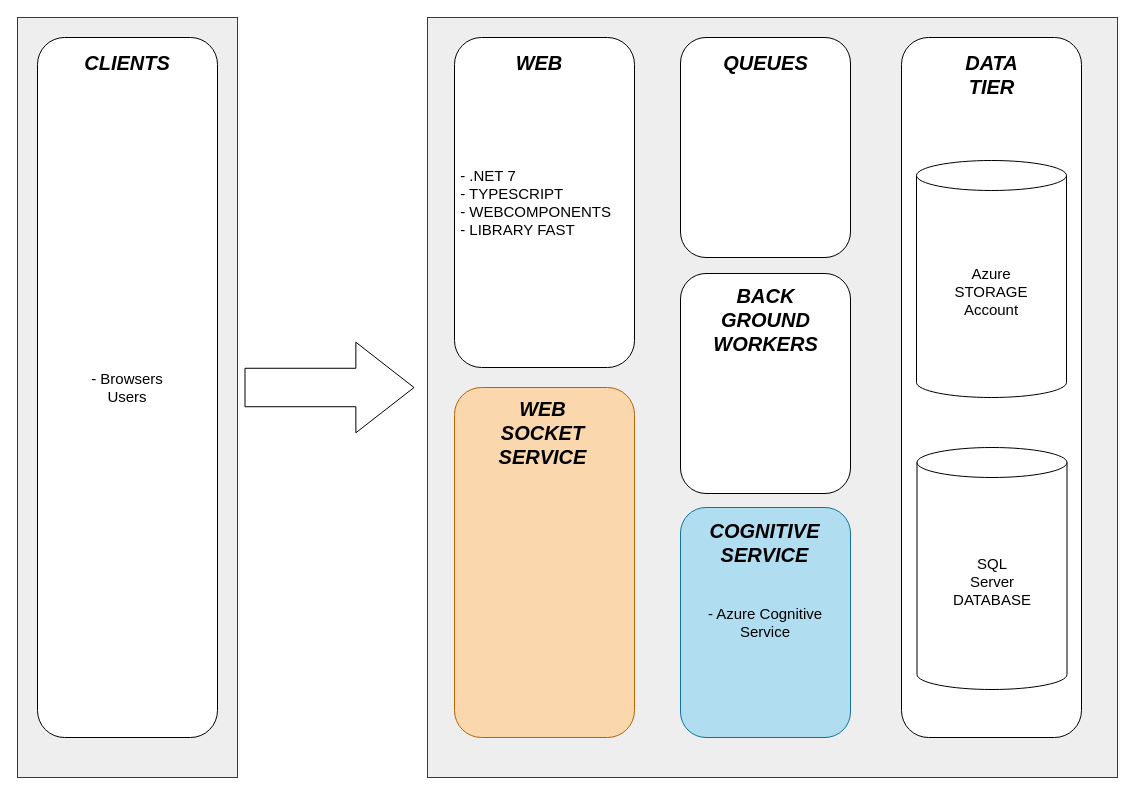
Image size: 1135x795. Some labels were removed from this diagram. Here are the shapes that lost their labels. From the top down, the box of each, then its label:
(680, 36, 850, 258): - SERVICE BUS
(680, 272, 850, 494): - .NET 7
(454, 386, 634, 738): - Azure SignalR
